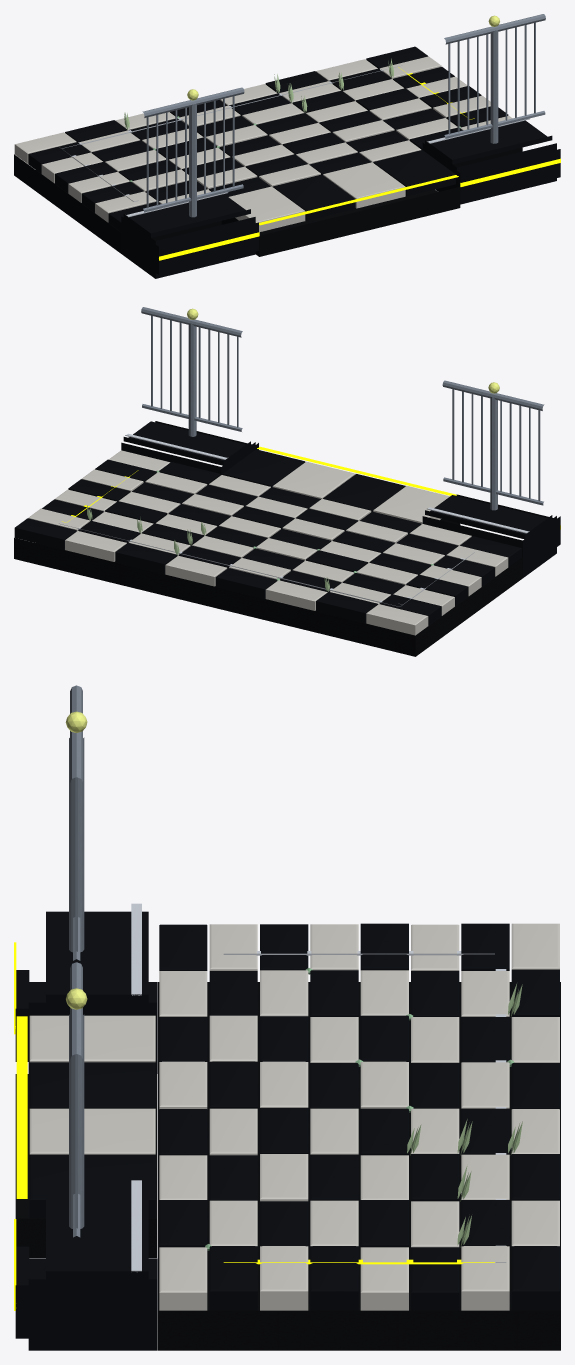
File: tt_terrace_edge_open_c2.glb
The picture shows the model from 3 angles, top to bottom: view 1: azimuth 30°, elevation 25°; view 2: azimuth 150°, elevation 25°; view 3: azimuth 270°, elevation 25°; orthographic projection. The views are drawn at different scales.
Parts seen in each view (by area): view 1: Pavers_B, Pavers_A, Coping_Kerb, Guard_Frame, Threshold_Slab, Pavers_B_T, Pavers_A_T, Deck_Slab, Coping_Line, Threshold_Amber, Court_Strips_White, Joint_Tufts (+1 smaller); view 2: Pavers_B, Pavers_A, Deck_Slab, Coping_Kerb, Guard_Frame, Pavers_B_T, Pavers_A_T, Coping_Court_Line, Threshold_Amber, Court_Strips_White; view 3: Pavers_B, Pavers_A, Coping_Kerb, Deck_Slab, Pavers_A_T, Pavers_B_T, Guard_Frame, Threshold_Slab, Threshold_Amber, Coping_Court_Line, Joint_Tufts, Court_Strips_White.
Part boxes in pixels (left/top/right/bottom): Pavers_B: left=28, top=46, right=508, bottom=231; Pavers_A: left=14, top=56, right=512, bottom=222; Coping_Kerb: left=121, top=120, right=560, bottom=278; Guard_Frame: left=142, top=14, right=545, bottom=217; Threshold_Slab: left=221, top=187, right=460, bottom=256; Pavers_B_T: left=272, top=150, right=455, bottom=220; Pavers_A_T: left=228, top=162, right=405, bottom=232; Deck_Slab: left=14, top=147, right=522, bottom=253; Coping_Line: left=159, top=158, right=560, bottom=260; Threshold_Amber: left=259, top=175, right=458, bottom=225; Court_Strips_White: left=59, top=65, right=402, bottom=201; Joint_Tufts: left=124, top=58, right=393, bottom=129; Pavers_B: left=14, top=459, right=521, bottom=625; Pavers_A: left=28, top=450, right=508, bottom=635; Deck_Slab: left=14, top=538, right=522, bottom=656; Coping_Kerb: left=121, top=421, right=560, bottom=577; Guard_Frame: left=141, top=307, right=544, bottom=510; Pavers_B_T: left=222, top=449, right=405, bottom=511; Pavers_A_T: left=272, top=461, right=449, bottom=524; Coping_Court_Line: left=125, top=433, right=529, bottom=533; Threshold_Amber: left=257, top=446, right=458, bottom=495; Court_Strips_White: left=59, top=523, right=474, bottom=606; Pavers_B: left=159, top=923, right=559, bottom=1310; Pavers_A: left=159, top=923, right=559, bottom=1310; Coping_Kerb: left=15, top=911, right=157, bottom=1350; Deck_Slab: left=157, top=982, right=560, bottom=1350; Pavers_A_T: left=29, top=1015, right=155, bottom=1154; Pavers_B_T: left=29, top=1062, right=155, bottom=1218; Guard_Frame: left=69, top=685, right=84, bottom=1237; Threshold_Slab: left=15, top=1074, right=156, bottom=1258; Threshold_Amber: left=16, top=1016, right=27, bottom=1198; Coping_Court_Line: left=131, top=903, right=141, bottom=1272; Joint_Tufts: left=407, top=984, right=522, bottom=1247; Court_Strips_White: left=223, top=951, right=506, bottom=1262.
Size of what is drawn, in the model's own units: 4 by 1.6 by 2.51.
9 materials, 4 textured.
